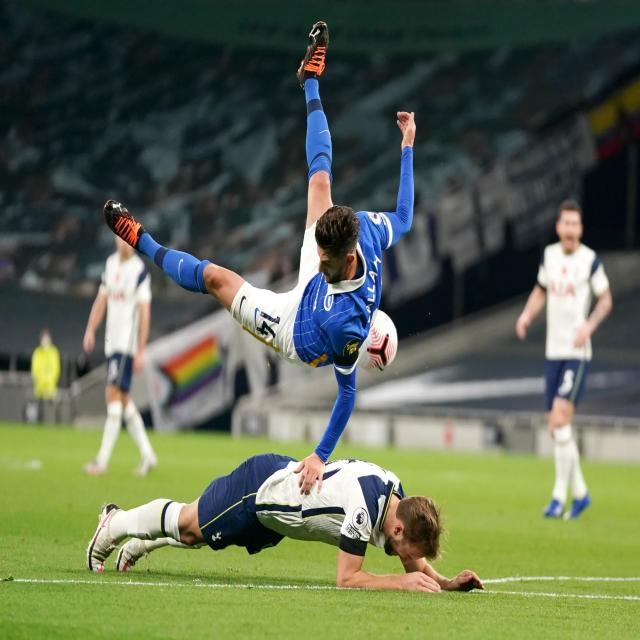collide: (288, 434, 328, 491)
hurt: (380, 527, 432, 559)
possible foul: (53, 28, 497, 592)
